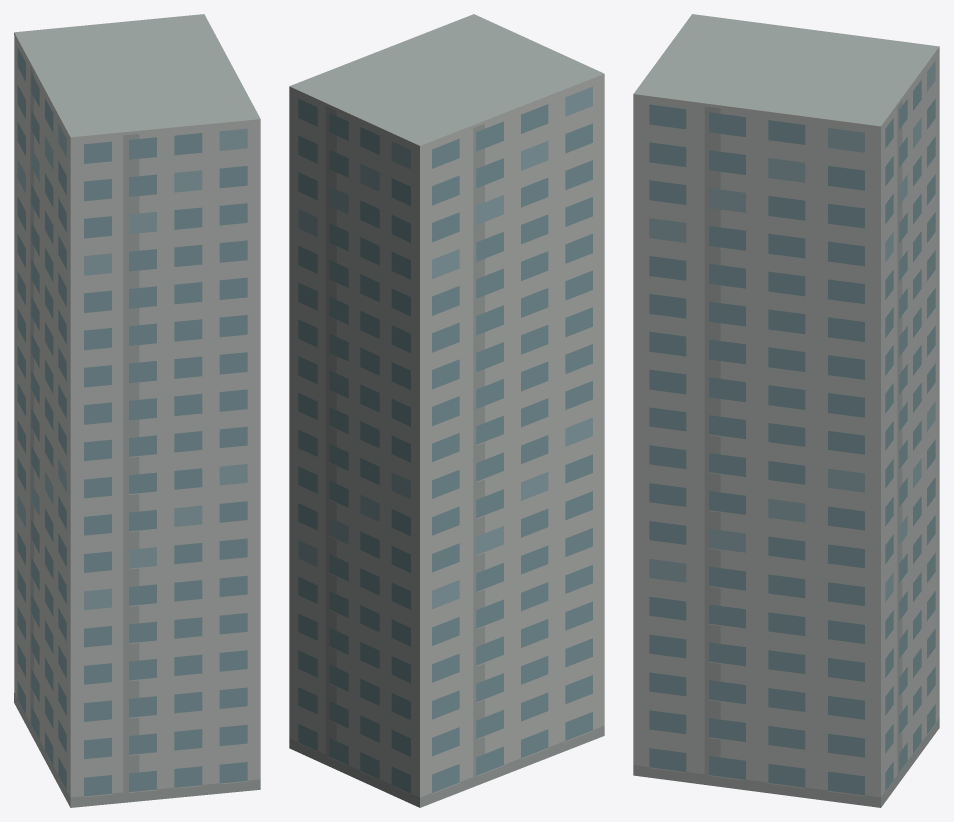
Rendered from residential-78f47401-6813-405b-bd53-bb3767bd49ef.glb.
3 renders of one model, left to right at view 1: azimuth 30°, elevation 25°; view 2: azimuth 150°, elevation 25°; view 3: azimuth 270°, elevation 25°, orthographic. The views are drawn at different scales.
Parts seen in each view (by area): view 1: residential-78f47401-6813-405b-bd53-bb3767bd49ef.tmp; view 2: residential-78f47401-6813-405b-bd53-bb3767bd49ef.tmp; view 3: residential-78f47401-6813-405b-bd53-bb3767bd49ef.tmp.
Boxes of the visible parts, x1,y1,x2,y2 form: residential-78f47401-6813-405b-bd53-bb3767bd49ef.tmp: (14, 14, 260, 807); residential-78f47401-6813-405b-bd53-bb3767bd49ef.tmp: (289, 14, 604, 807); residential-78f47401-6813-405b-bd53-bb3767bd49ef.tmp: (633, 14, 939, 807).
Size of the model in its own units: 19.12 by 54 by 22.
